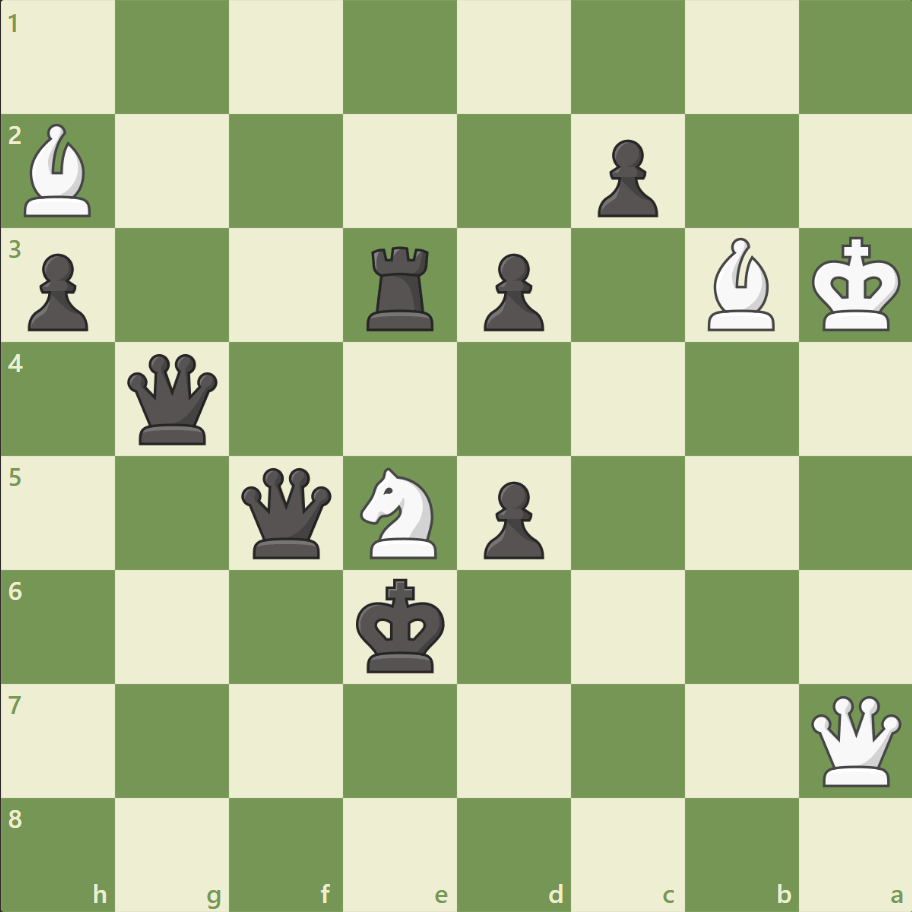B: (698, 233, 782, 336), (17, 120, 101, 222)
K: (806, 231, 906, 339)
N: (351, 461, 449, 564)
Q: (805, 690, 904, 789)
k: (351, 571, 451, 679)
p: (474, 473, 549, 564), (474, 246, 549, 337), (20, 246, 95, 337), (588, 132, 662, 223)
q: (124, 349, 223, 449), (237, 463, 336, 562)
r: (360, 239, 442, 336)
